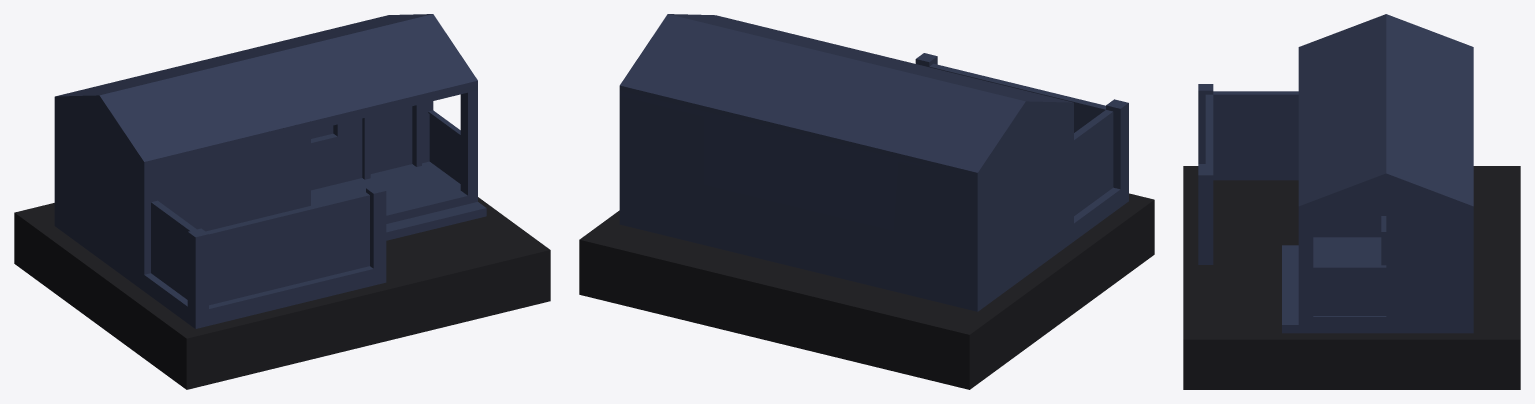
Rendered from fond_du_decor_maison_2.fbx.
3 renders of one model, left to right at view 1: azimuth 30°, elevation 25°; view 2: azimuth 150°, elevation 25°; view 3: azimuth 270°, elevation 25°, orthographic. The views are drawn at different scales.
Parts seen in each view (by area): view 1: Box003, Box001; view 2: Box003, Box001; view 3: Box003, Box001.
Part boxes in pixels (bbox=[...]): Box003: bbox=[54, 14, 486, 328]; Box001: bbox=[14, 197, 550, 389]; Box003: bbox=[619, 14, 1128, 311]; Box001: bbox=[579, 193, 1154, 389]; Box003: bbox=[1198, 14, 1473, 333]; Box001: bbox=[1183, 166, 1520, 389].
Size of the model in its own units: 126 by 71.24 by 104.
